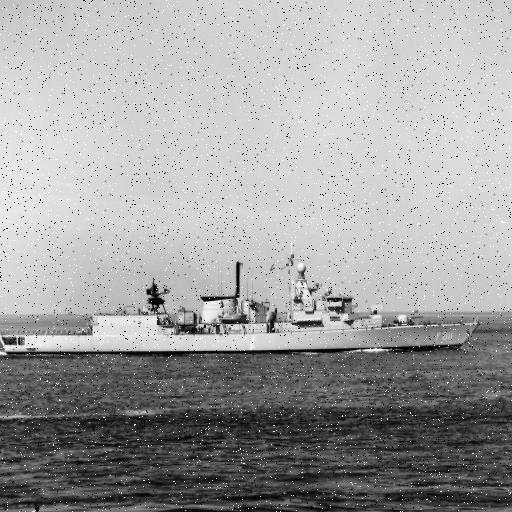Fragata: (1, 250, 487, 359)
